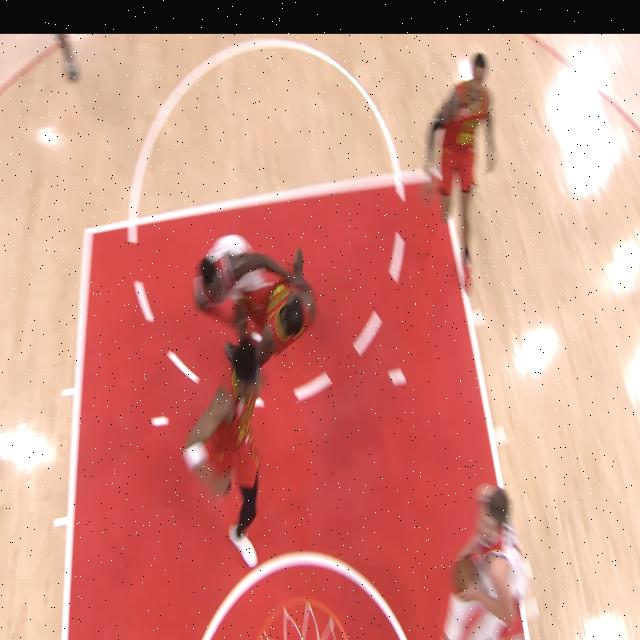foul: (152, 180, 330, 581)
